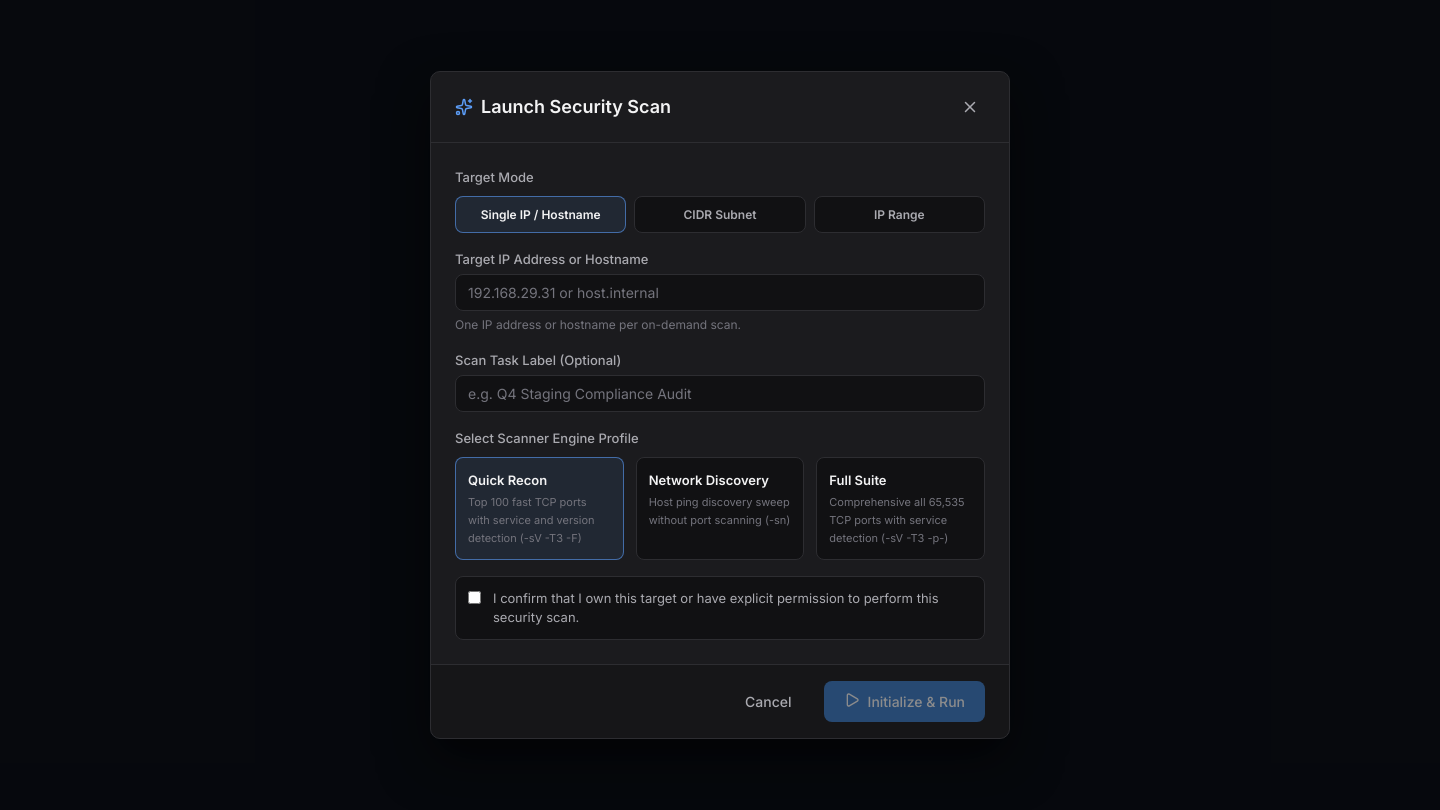
Test: Direct scan authorization workflow › routes an authorized CIDR through host discovery, not the single-host scan API
Later steps or results of the test are not shown.
Step 1. Click the button "CIDR Subnet" → click(720, 214), box [634,196,806,233]
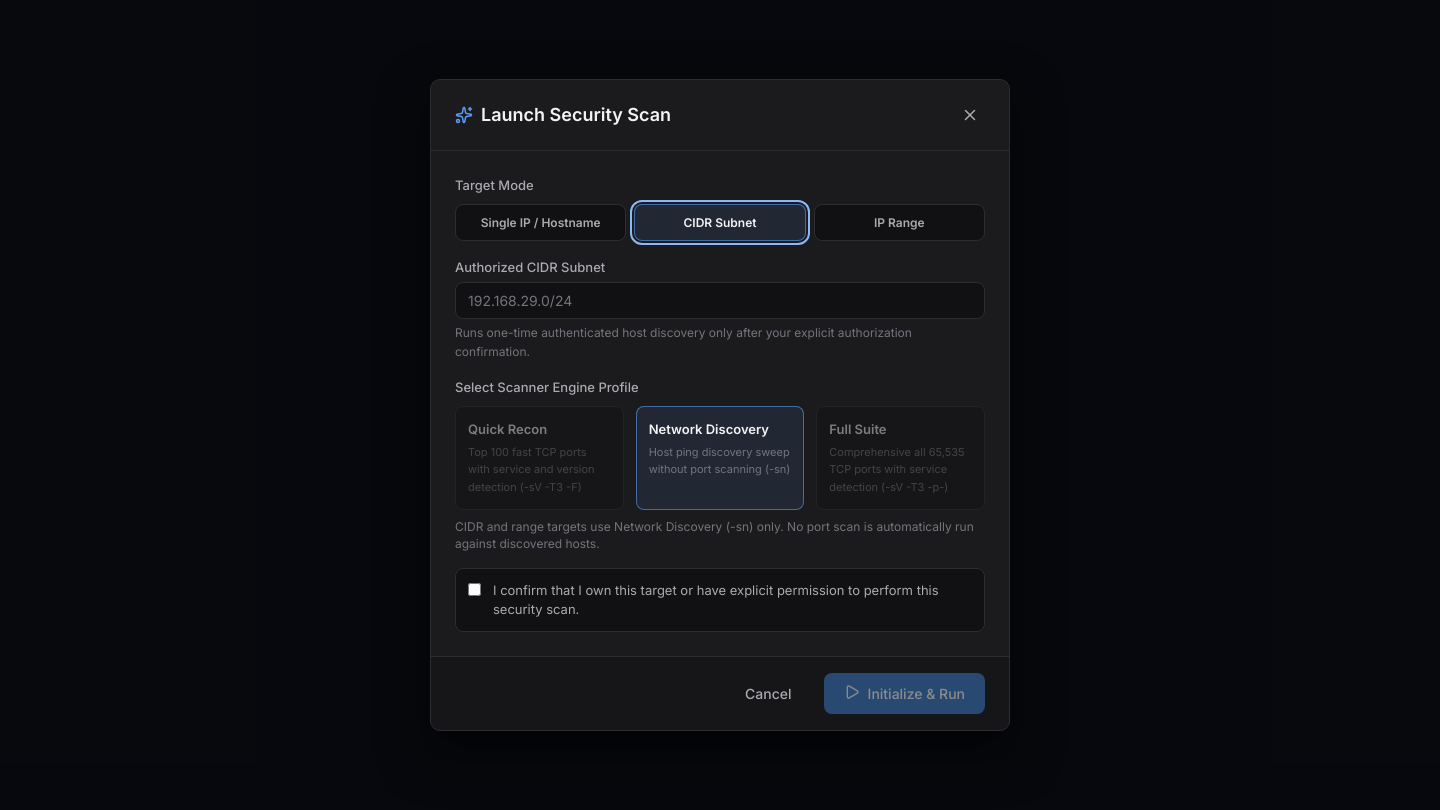
Check: the button "Network Discovery" is pressed, box [636,406,804,510]
